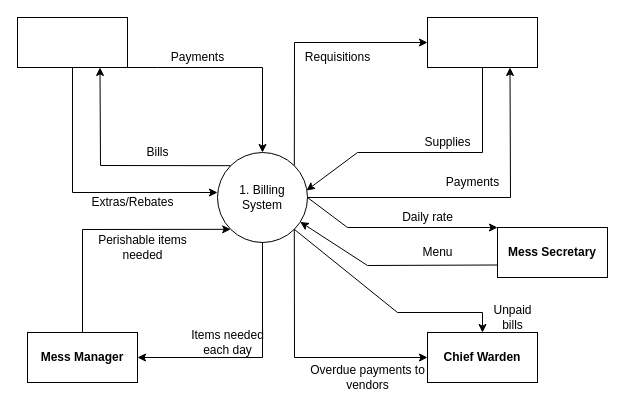
The diagram is 625 pixels wide and 410 high, and some of its shapes have lost their labels. Each missing label, with the centre of its shape:
"Students" goes at point 72,42.
"Vendors" goes at point 482,42.
